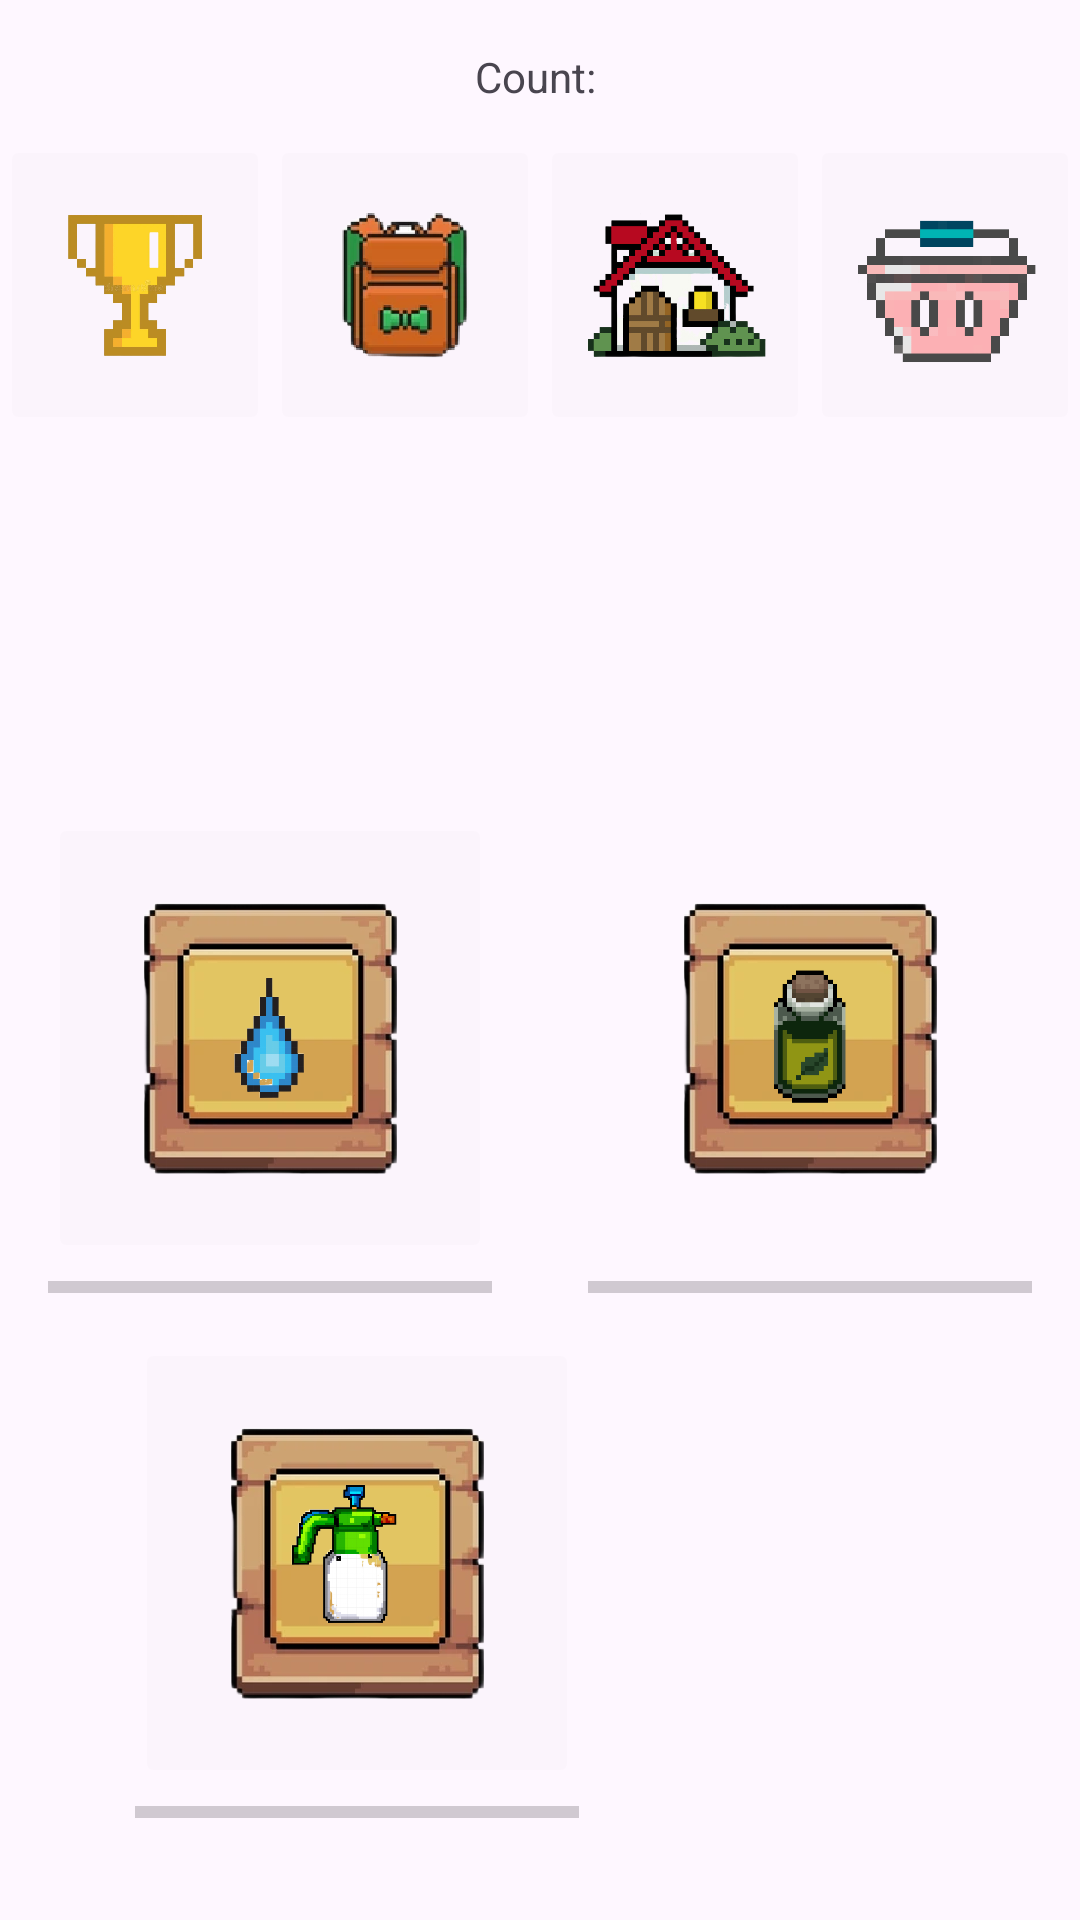

Named icons in this screenshot (1080w x 1920h) and their bounding boxes, (x1, y1, x2, y2):
backpack: (342, 213, 467, 357)
cleaner: (231, 1429, 484, 1699)
flower click fragment jar: (684, 904, 937, 1174)
flower click fragment rain: (144, 904, 397, 1174)
house: (588, 214, 766, 357)
trophy: (68, 215, 202, 356)
